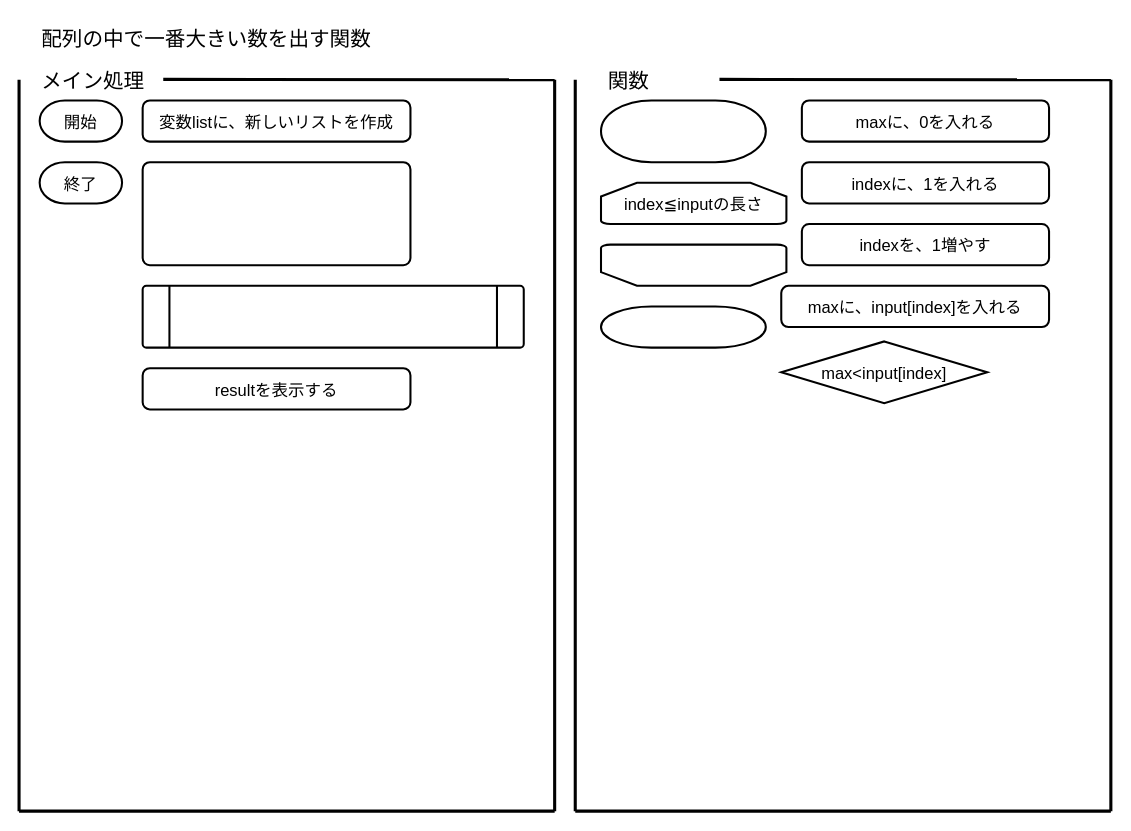
Some shapes in this 1131 by 831 pixel diagram are drawn without their labels. Here are the shapes that lost their labels. From the top down, the box of each, then its label:
(599, 99, 766, 163): 一番大きい数 引数: input
(141, 161, 411, 266): listの末尾に、10を挿入する listの末尾に、29を挿入する listの末尾に、12を挿入する listの末尾に、40を挿入する
(141, 284, 524, 348): 関数「一番大きい数(引数list)」を実行し、 変数resultに、結果を入れる
(599, 305, 766, 348): maxを返す
